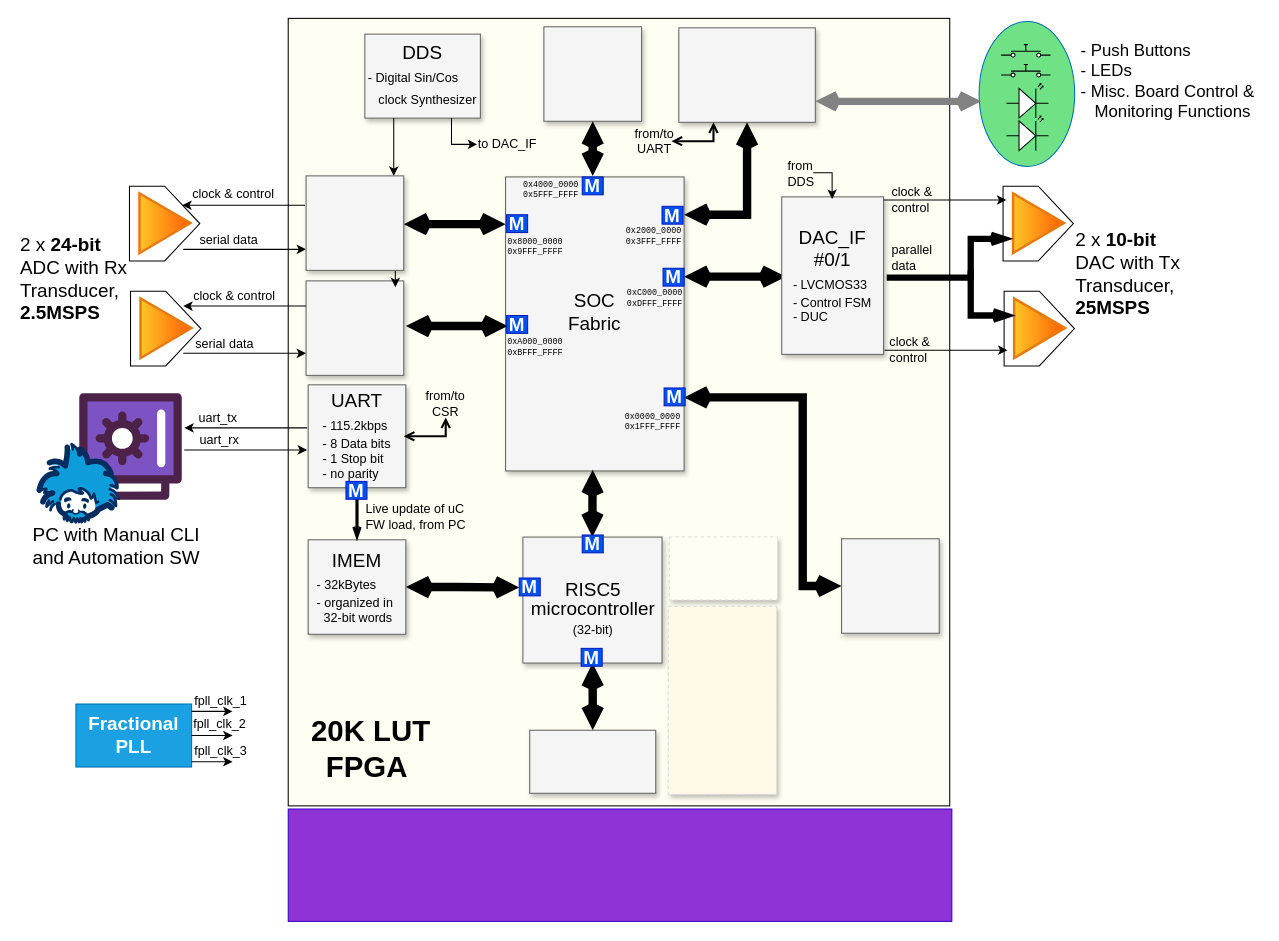
This 1279x941 diagram has some shape labels left out. The shapes that lost their labels are listed below. From the top down, each one's centre as x and y in pixels, then its label:
At [593,75]: "SDRAM - 8MBytes - organized in 32-bit words".
At [748,76]: "CSR - Config/Status Regs - UART Access I/F - GPIO".
At [355,224]: "ADC_IF#0 - LVDS - Control FSM - DDC".
At [355,329]: "ADC_IF#1 - LVDS - Control FSM - DDC".
At [724,569]: "Control Software".
At [891,587]: "DMEM - TCM, 32kBytes - organized in 32-bit words".
At [723,701]: "Baseband Digital Signal Processing".
At [593,763]: "DSP Accelerator".
At [619,864]: "eduSOC * DSP * AI * SDR * Acceleration *".
